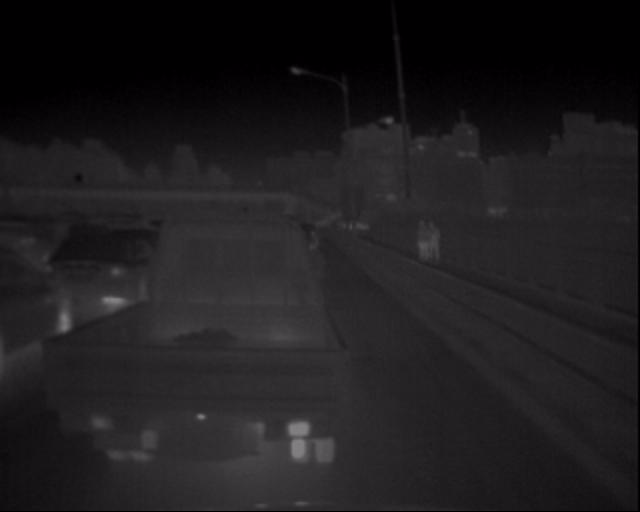person: (415, 215, 444, 270)
